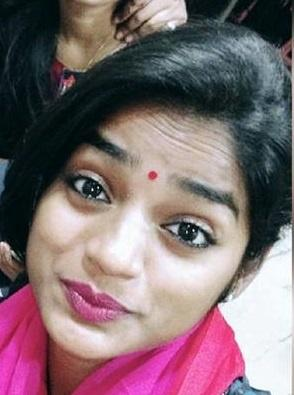No Mask: (38, 56, 262, 381)
